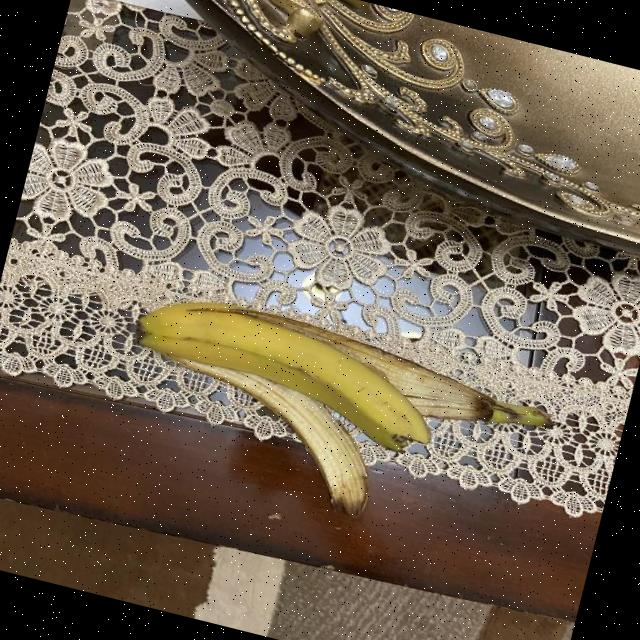banana-peel: (102, 278, 560, 558), (120, 282, 450, 460), (130, 348, 392, 520)
